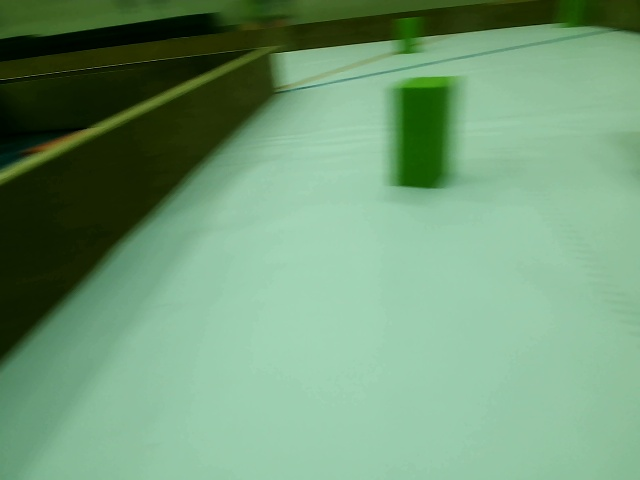green: (388, 71, 467, 201)
